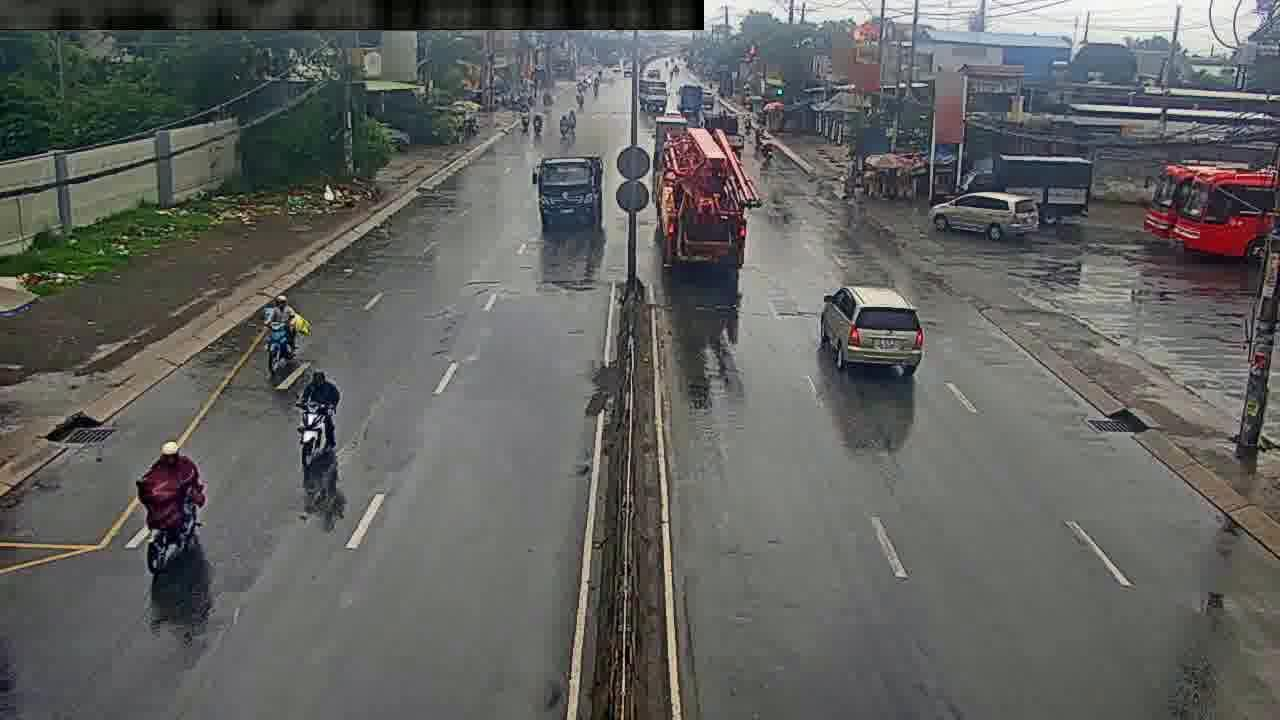8: (659, 124, 750, 272), (538, 146, 600, 216)
container: (816, 283, 922, 367)
motorbike: (145, 435, 204, 569), (293, 359, 344, 482), (264, 289, 300, 379)
